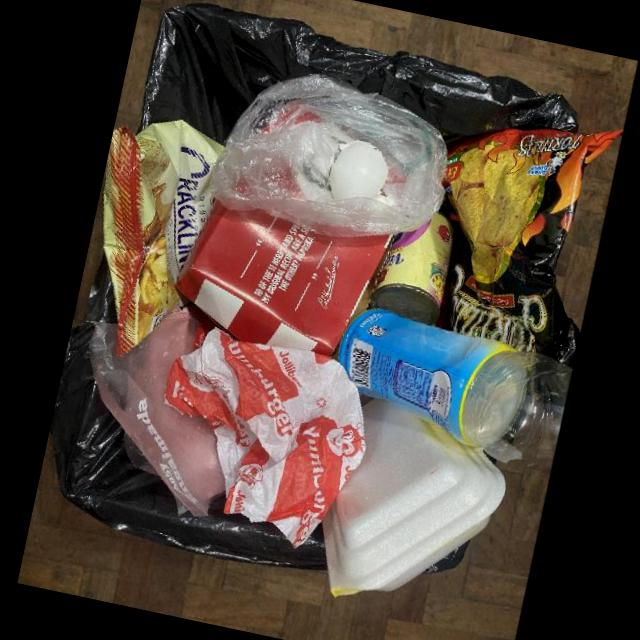bao_bi_thuc_pham: (434, 129, 623, 369), (102, 120, 224, 357), (89, 308, 225, 517)
carton: (174, 200, 392, 357)
chai_nhua_pet: (337, 309, 572, 470)
giay: (163, 327, 365, 548)
nhom: (370, 212, 454, 325)
tui_ni_long: (207, 74, 447, 238)
vo_trung: (327, 140, 388, 203)
xop: (321, 397, 505, 598)
